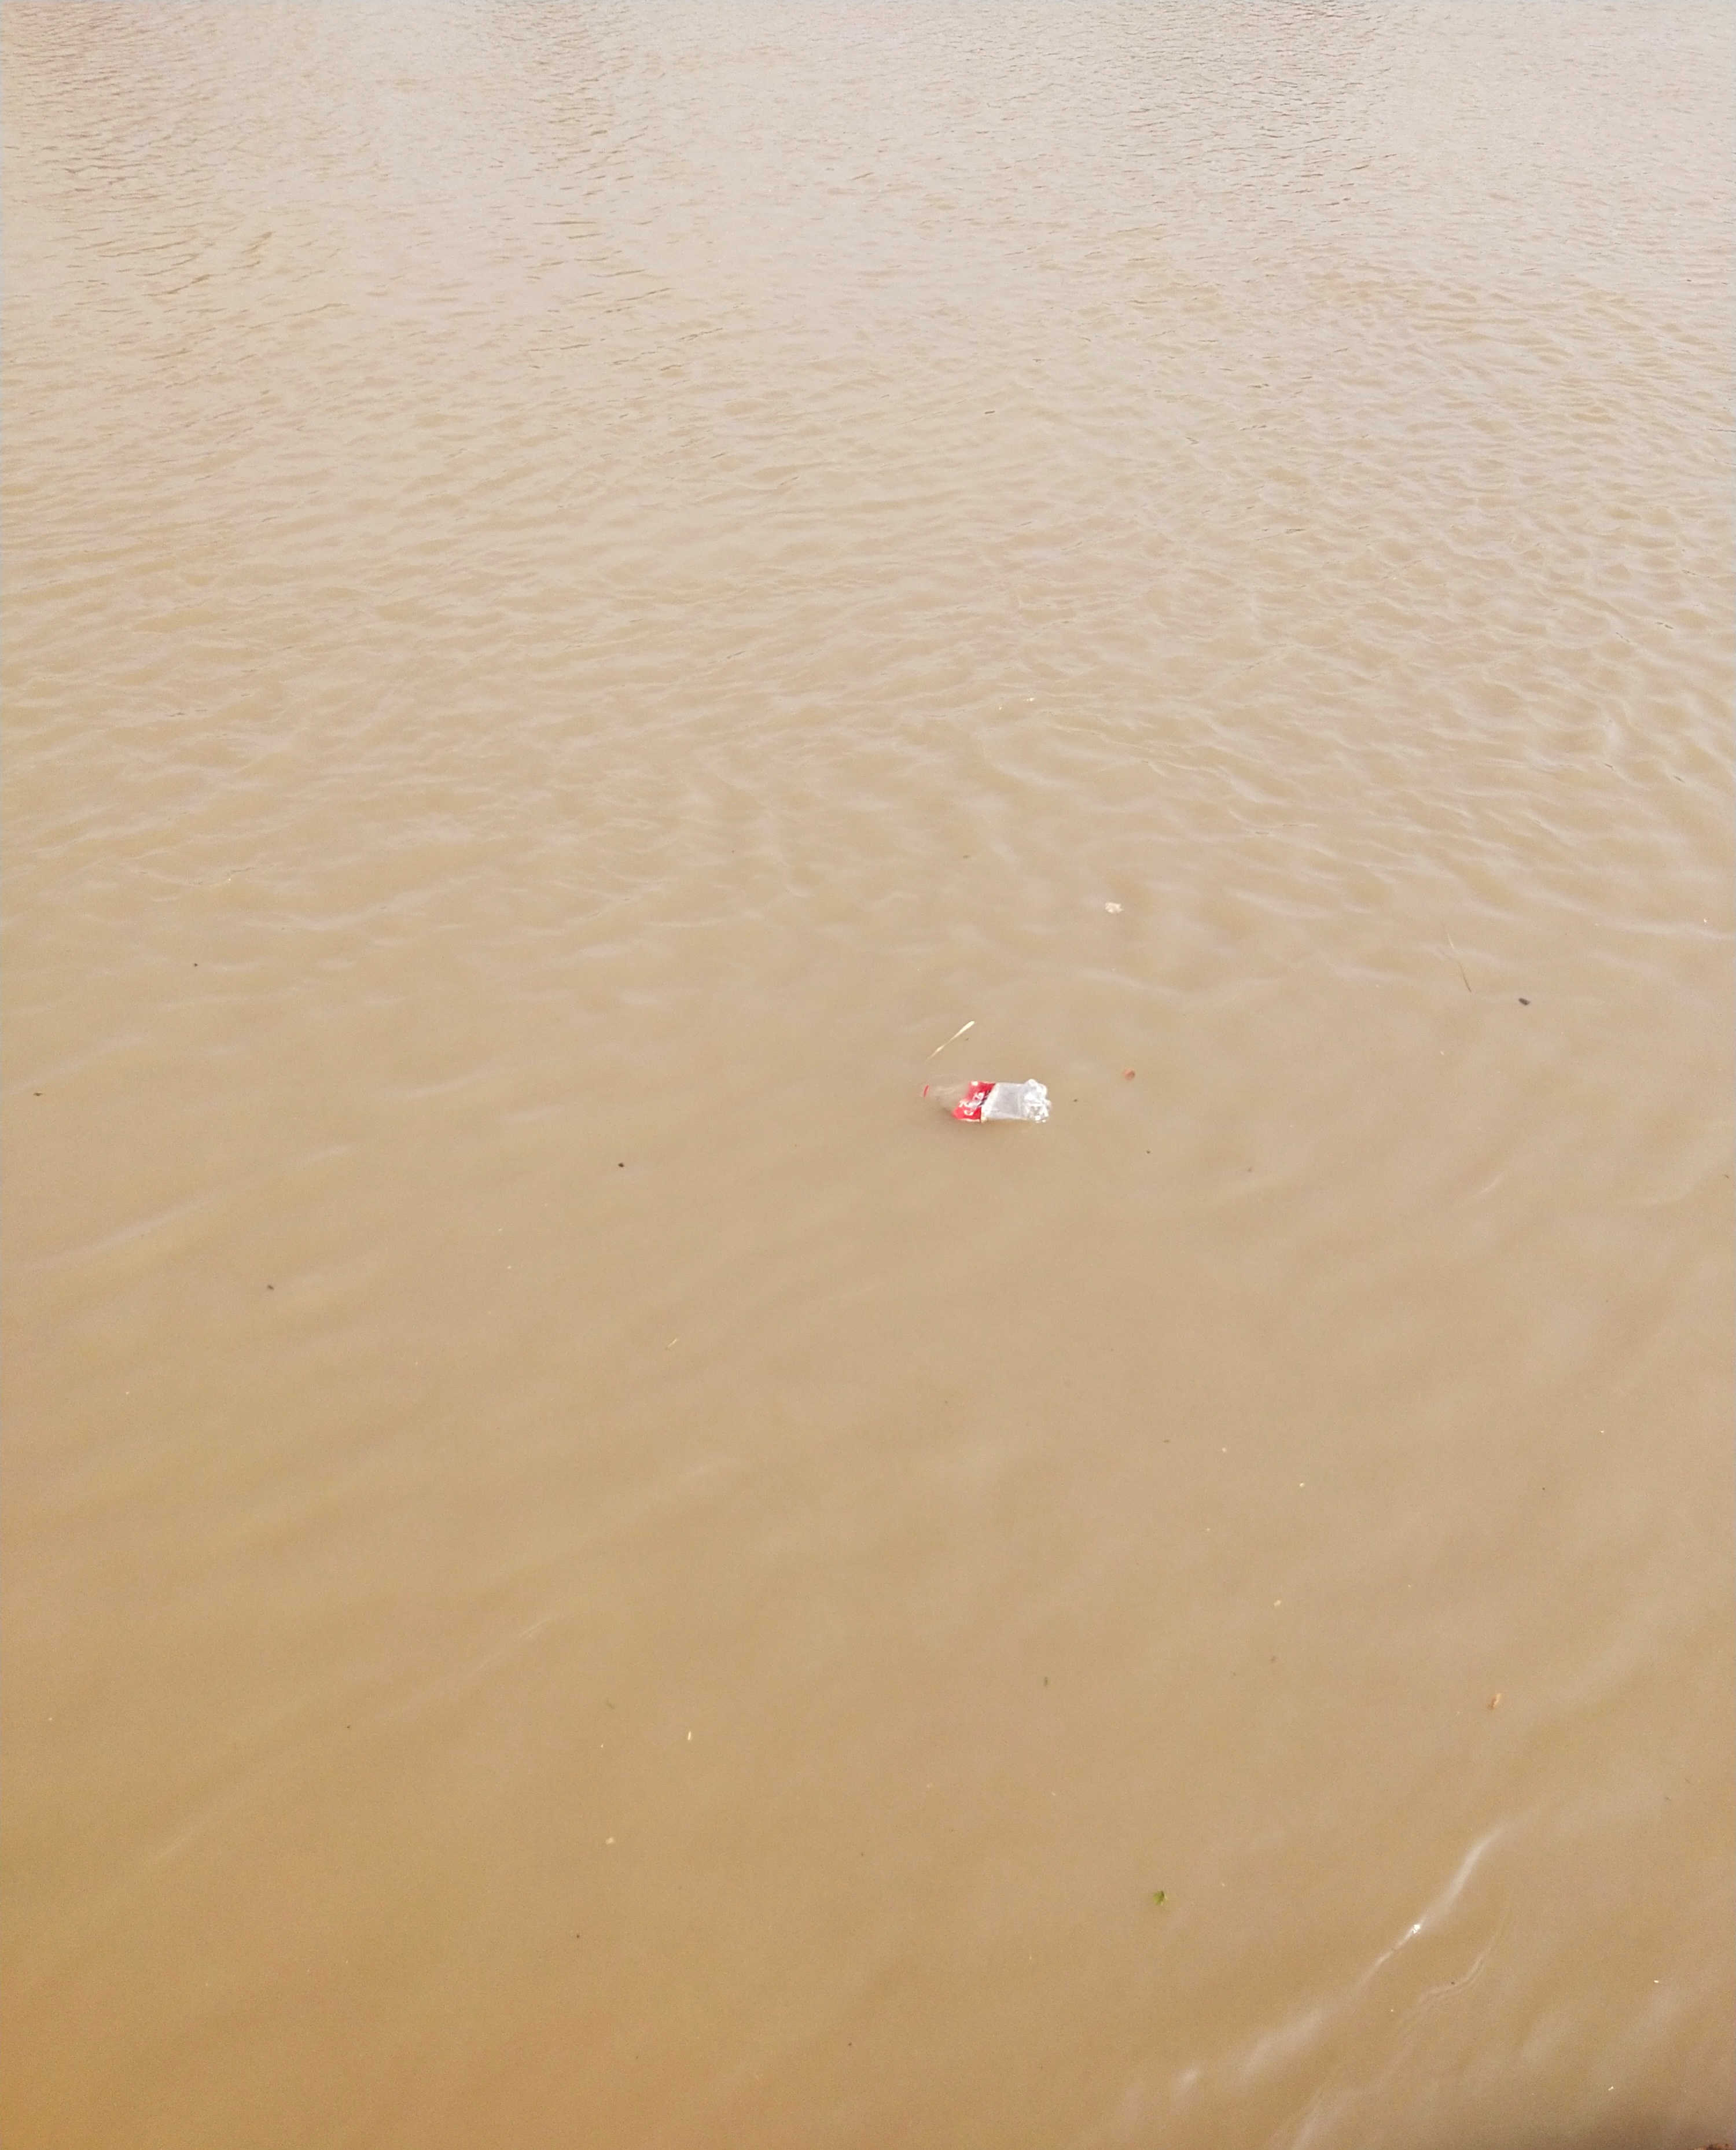Plastic Bottle: (919, 1079, 1050, 1123)
